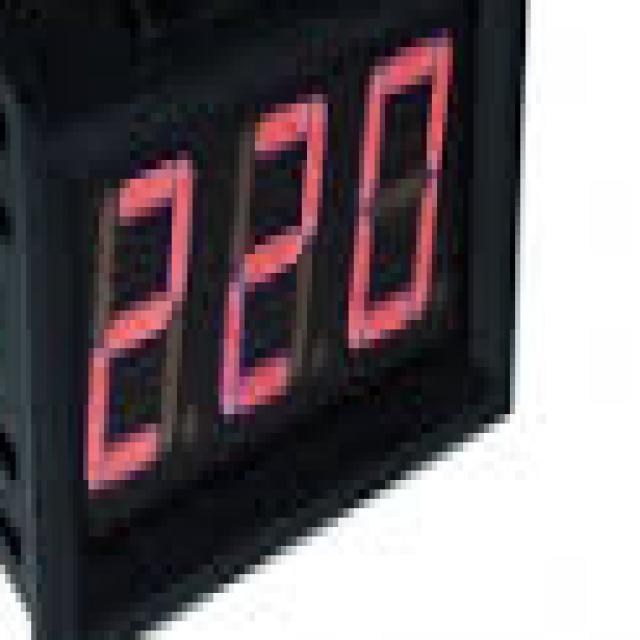0: (349, 36, 473, 358)
2: (76, 130, 202, 498), (210, 97, 332, 421)
screen: (80, 13, 475, 520)
